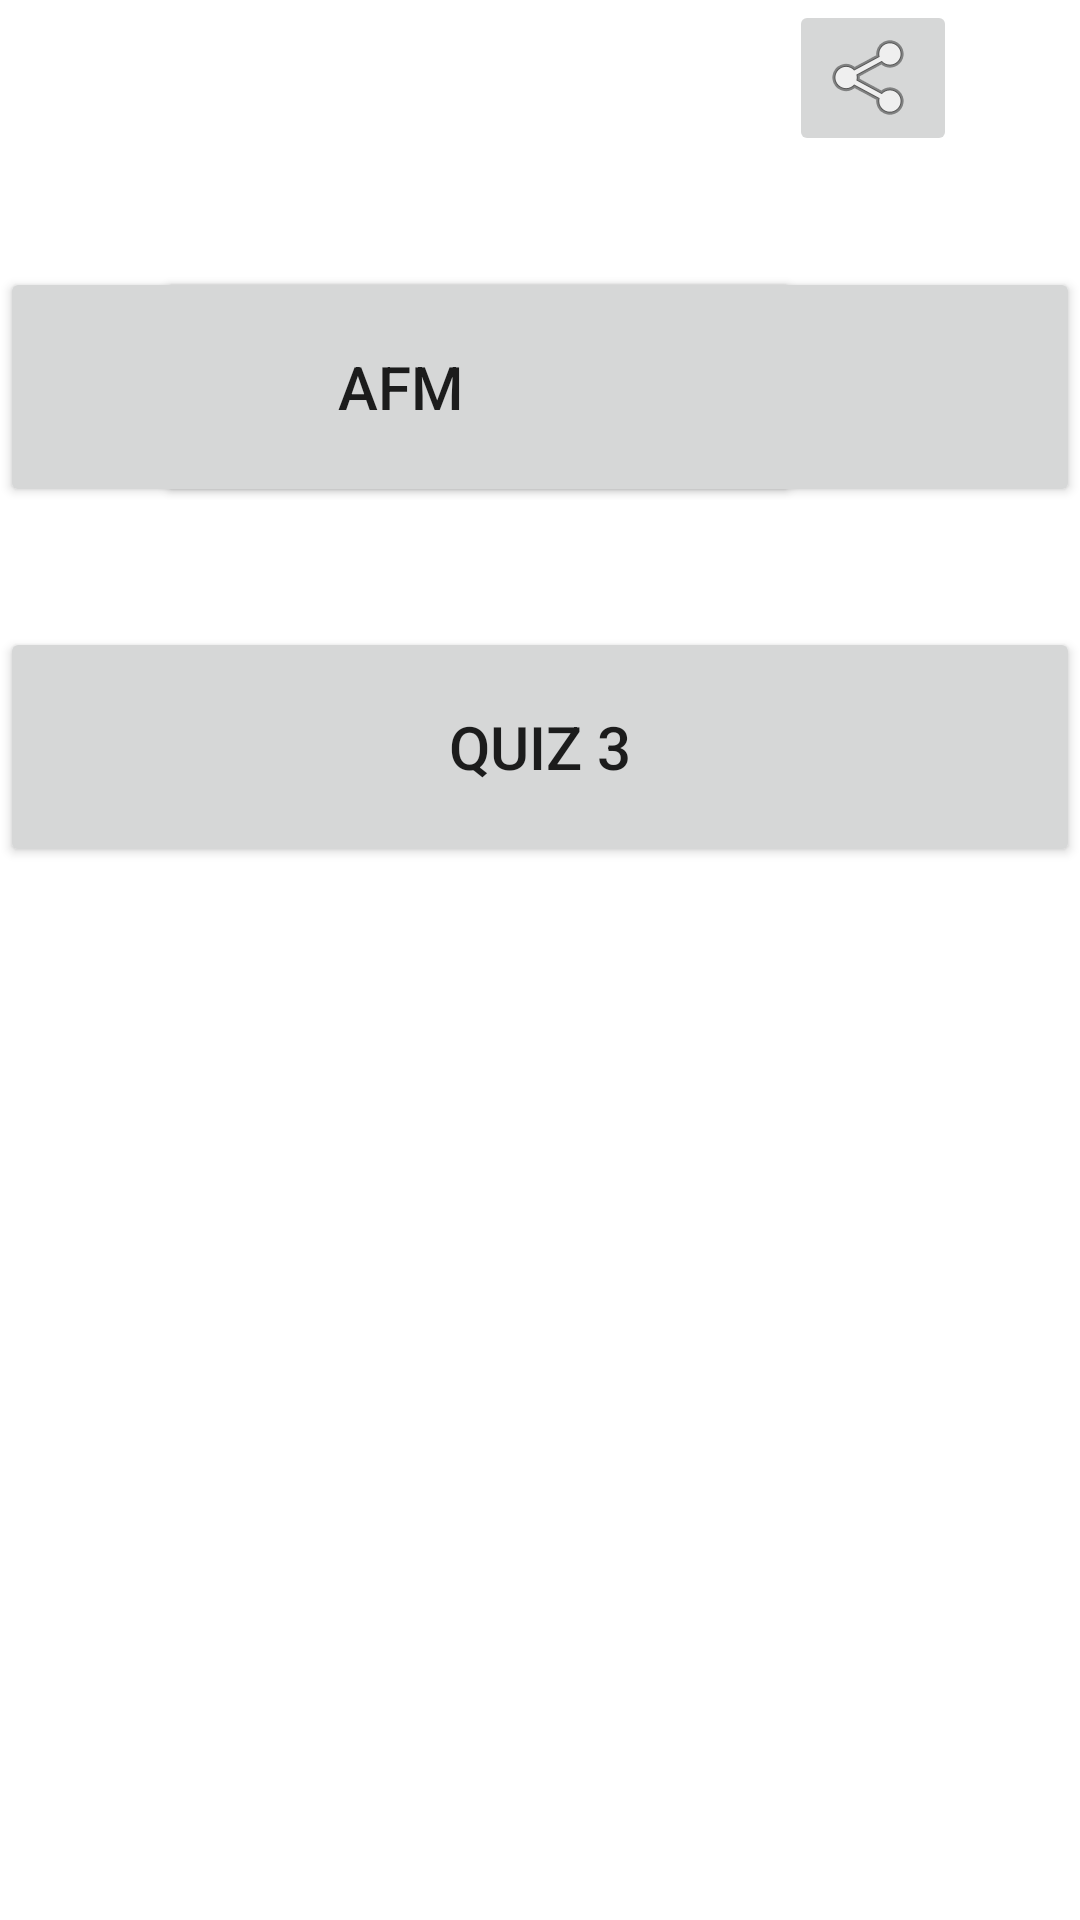

Icon bounding boxes for this 1080px x 1920px phone screenshot, format {"x1": x1, "y1": y1, "x2": x2, "y2": y2}:
share: {"x1": 801, "y1": 18, "x2": 945, "y2": 138}
